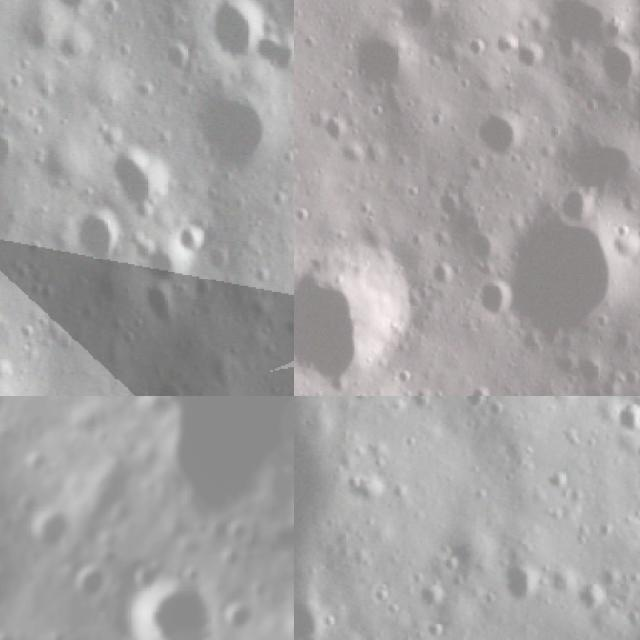crater: (492, 196, 630, 360), (294, 246, 417, 385), (109, 571, 218, 640), (561, 127, 638, 209), (198, 85, 272, 166), (347, 27, 418, 94), (210, 0, 268, 68), (496, 554, 554, 618), (471, 99, 526, 163), (73, 197, 124, 260), (119, 142, 163, 208), (174, 212, 220, 272), (591, 39, 640, 92), (411, 568, 456, 624), (58, 560, 107, 611), (294, 590, 341, 640), (23, 509, 75, 553), (554, 181, 600, 227), (472, 274, 514, 322), (462, 231, 506, 271), (398, 0, 452, 31), (35, 0, 101, 25), (337, 135, 374, 173), (221, 598, 257, 633), (430, 188, 464, 225), (609, 224, 640, 264), (612, 396, 640, 440), (512, 39, 548, 73), (149, 370, 195, 396), (320, 106, 351, 141), (22, 447, 53, 481), (430, 261, 458, 295), (9, 492, 40, 520), (225, 517, 253, 543), (464, 378, 500, 396), (220, 548, 246, 572), (268, 588, 292, 609), (92, 428, 108, 447)
